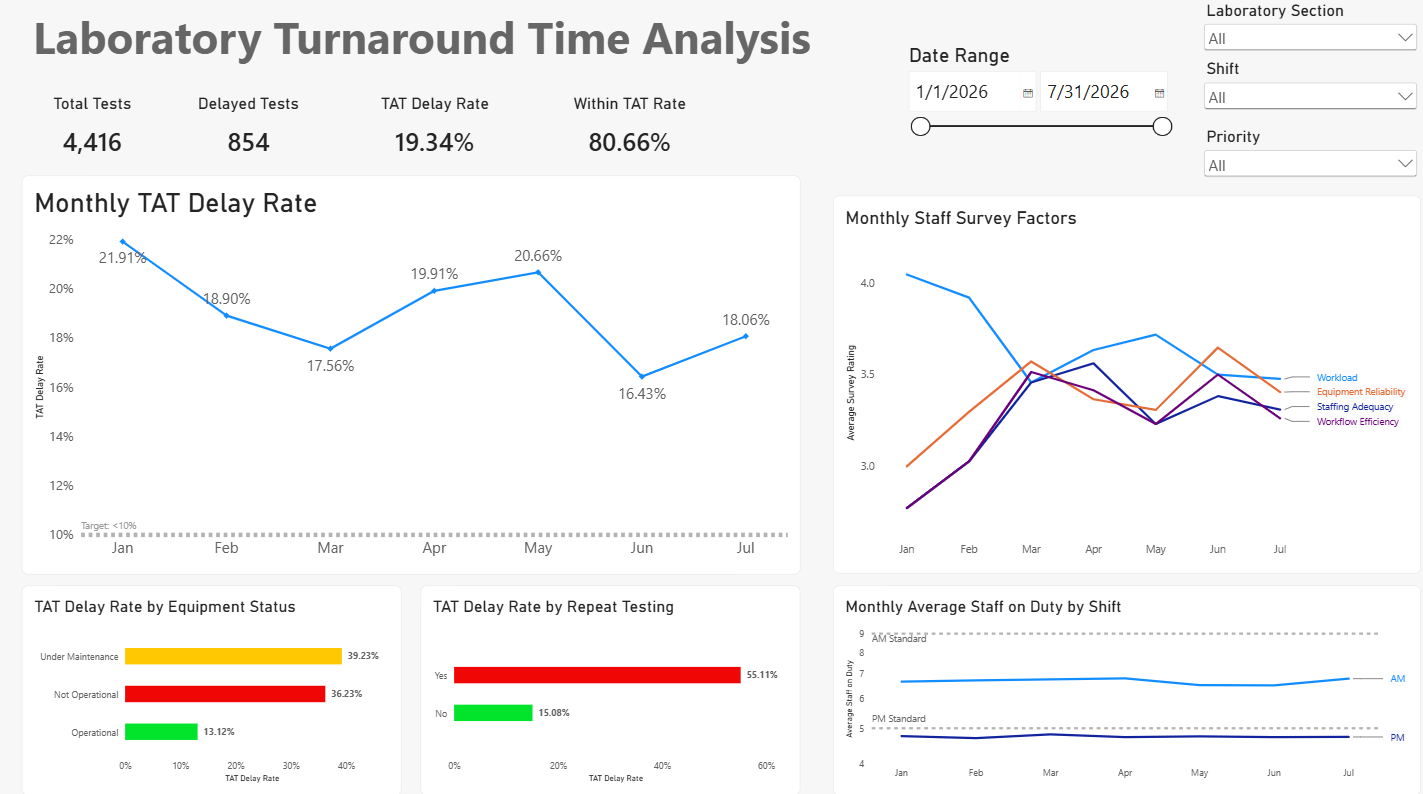

The dashboard page shown, as its layout file describes it:
{"tool":"powerbi","page":{"name":"Page 1","canvas":[1920,1080],"ordinal":0},"visuals":[{"type":"textbox","box":[46,12,1068,116],"z":0},{"type":"cardVisual","title":"Total Tests","fields":{"Data":["Lab Data.Total Tests Display"]},"box":[32,128,188,92],"z":1000},{"type":"cardVisual","title":"Delayed Tests","fields":{"Data":["Lab Data.Delayed Tests"]},"box":[240,128,188,92],"z":2000},{"type":"cardVisual","title":"TAT Delay Rate","fields":{"Data":["Lab Data.TAT Delay Rate"]},"box":[484,128,188,92],"z":3000},{"type":"cardVisual","title":"Within TAT Rate","fields":{"Data":["Lab Data.Within TAT Rate"]},"box":[748,128,188,92],"z":4000},{"type":"lineChart","title":"Monthly TAT Delay Rate","fields":{"Category":["Calendar.Month"],"Y":["Lab Data.TAT Delay Rate"]},"box":[32,236,1038,532],"z":5000},{"type":"lineChart","title":"Monthly Staff Survey Factors","fields":{"Category":["Calendar.Month"],"Y":["Staff Survey.Average Workload","Staff Survey.Average Staffing Adequacy","Staff Survey.Average Equipment Reliability","Staff Survey.Average Workflow Efficiency"]},"box":[1114,264,784,504],"z":6000},{"type":"clusteredBarChart","title":"TAT Delay Rate by Equipment Status","fields":{"Category":["Lab Data.Equipment Status"],"Y":["Lab Data.TAT Delay Rate"]},"box":[32,784,506,280],"z":7000},{"type":"clusteredBarChart","fields":{"Category":["Lab Data.Repeat Testing"],"Y":["Lab Data.TAT Delay Rate"]},"box":[564,784,506,280],"z":8000},{"type":"lineChart","title":"Monthly Average Staff on Duty by Shift","fields":{"Category":["Calendar.Month"],"Series":["Shift Reference.Shift"],"Y":["Lab Data.Average Staff on Duty"]},"box":[1114,784,784,280],"z":9000},{"type":"slicer","fields":{"Values":["Lab Data.Priority"]},"box":[1604,172,294,84],"z":10000},{"type":"slicer","fields":{"Values":["Shift Reference.Shift"]},"box":[1604,82,294,90],"z":11000},{"type":"slicer","fields":{"Values":["Lab Data.Laboratory Section"]},"box":[1604,4,294,78],"z":12000},{"type":"slicer","fields":{"Values":["Lab Data.Test Date"]},"box":[1206,60,362,226],"z":13000}]}

Visuals, with their boxes in screenshot pixels (x1, y1, x2, y2), scaled from the page's 1920x1080 canvas onto the 1423x794 screenshot:
textbox: box(34, 9, 826, 94)
"Total Tests" cardVisual: box(24, 94, 163, 162)
"Delayed Tests" cardVisual: box(178, 94, 317, 162)
"TAT Delay Rate" cardVisual: box(359, 94, 498, 162)
"Within TAT Rate" cardVisual: box(554, 94, 694, 162)
"Monthly TAT Delay Rate" lineChart: box(24, 174, 793, 565)
"Monthly Staff Survey Factors" lineChart: box(826, 194, 1407, 565)
"TAT Delay Rate by Equipment Status" clusteredBarChart: box(24, 576, 399, 782)
clusteredBarChart - Lab Data.Repeat Testing x Lab Data.TAT Delay Rate: box(418, 576, 793, 782)
"Monthly Average Staff on Duty by Shift" lineChart: box(826, 576, 1407, 782)
slicer - Lab Data.Priority: box(1189, 126, 1407, 188)
slicer - Shift Reference.Shift: box(1189, 60, 1407, 126)
slicer - Lab Data.Laboratory Section: box(1189, 3, 1407, 60)
slicer - Lab Data.Test Date: box(894, 44, 1162, 210)
